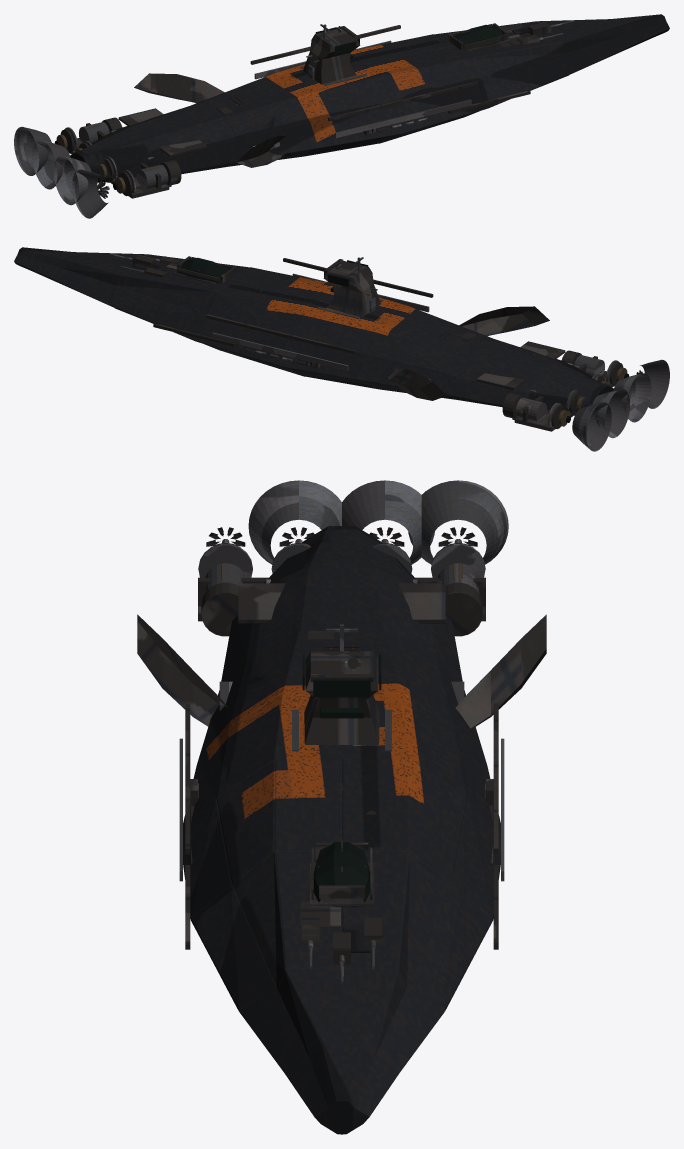
File: leviathan_production_v1_lod2.glb
3 views of the same model, one above another, from view 1: azimuth 30°, elevation 25°; view 2: azimuth 150°, elevation 25°; view 3: azimuth 270°, elevation 25° (orthographic). The views are drawn at different scales.
Visible parts, largest first — view 1: LOD2_Hull, LOD2_Armor, LOD2_Mechanical, LOD2_Canopy, LOD2_Ceramic; view 2: LOD2_Hull, LOD2_Armor, LOD2_Mechanical, LOD2_Canopy, LOD2_Ceramic; view 3: LOD2_Hull, LOD2_Armor, LOD2_Mechanical, LOD2_Canopy.
Boxes of the visible parts, x1=… form: LOD2_Hull: x1=70, y1=14, x2=669, y2=182; LOD2_Armor: x1=60, y1=22, x2=551, y2=198; LOD2_Mechanical: x1=14, y1=20, x2=574, y2=218; LOD2_Canopy: x1=315, y1=24, x2=503, y2=59; LOD2_Ceramic: x1=56, y1=123, x2=158, y2=193; LOD2_Hull: x1=14, y1=247, x2=613, y2=411; LOD2_Armor: x1=132, y1=255, x2=642, y2=431; LOD2_Mechanical: x1=109, y1=253, x2=669, y2=451; LOD2_Canopy: x1=180, y1=257, x2=368, y2=292; LOD2_Ceramic: x1=525, y1=356, x2=627, y2=426; LOD2_Hull: x1=183, y1=526, x2=500, y2=1134; LOD2_Armor: x1=137, y1=527, x2=546, y2=964; LOD2_Mechanical: x1=179, y1=480, x2=508, y2=983; LOD2_Canopy: x1=302, y1=654, x2=381, y2=902.
Size of what is drawn, in the model's own units: 27.75 by 5.19 by 8.1.
Materials: 9 (9 with a texture image).
